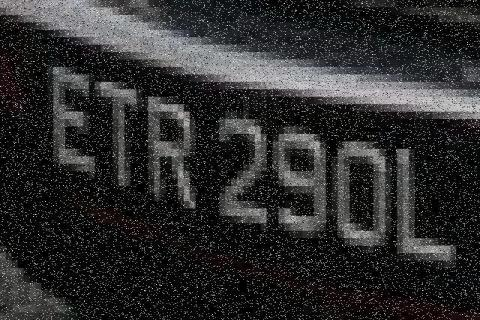LicensePlate: (1, 7, 480, 302)
